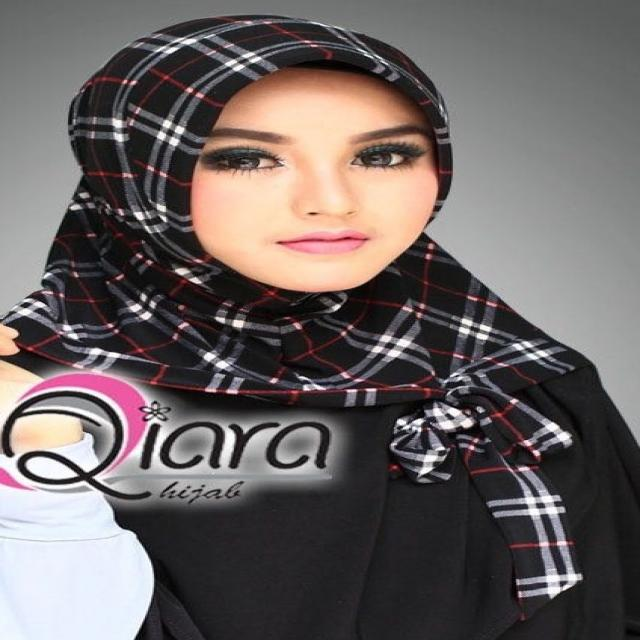head: (75, 10, 465, 312)
